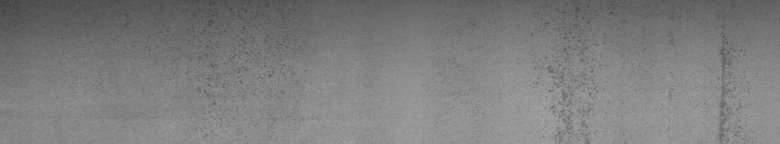ib: (545, 4, 613, 128)
